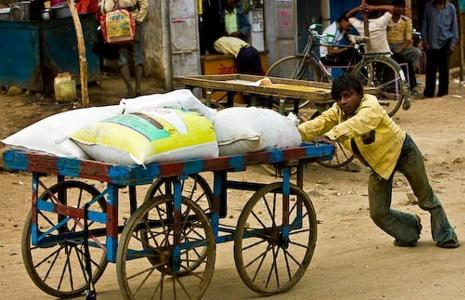person: (293, 74, 460, 251)
